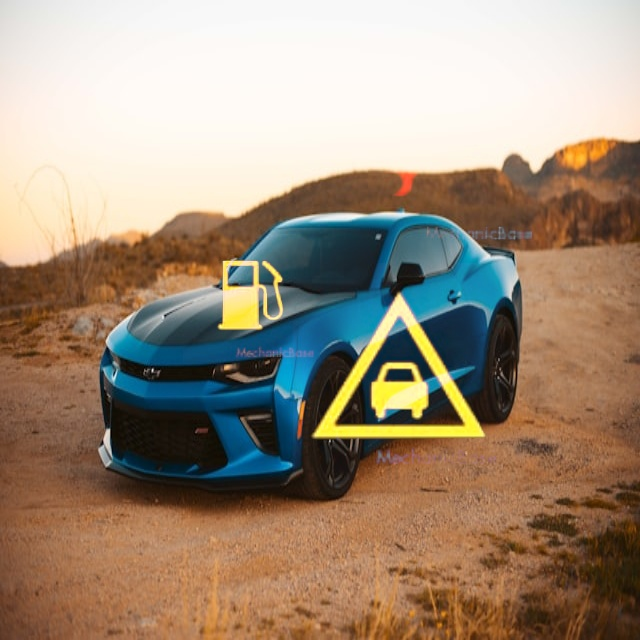symbol: (293, 263, 505, 475), (351, 60, 540, 249), (183, 228, 319, 364)
